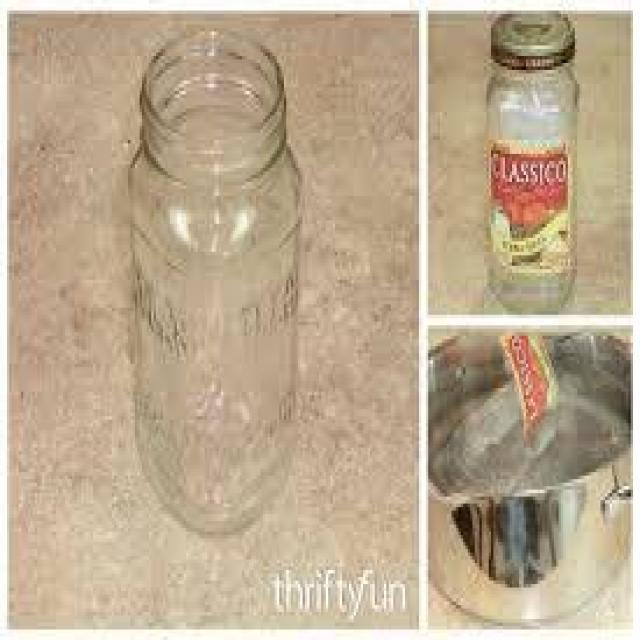Glass: (128, 24, 307, 538), (485, 10, 581, 315)
